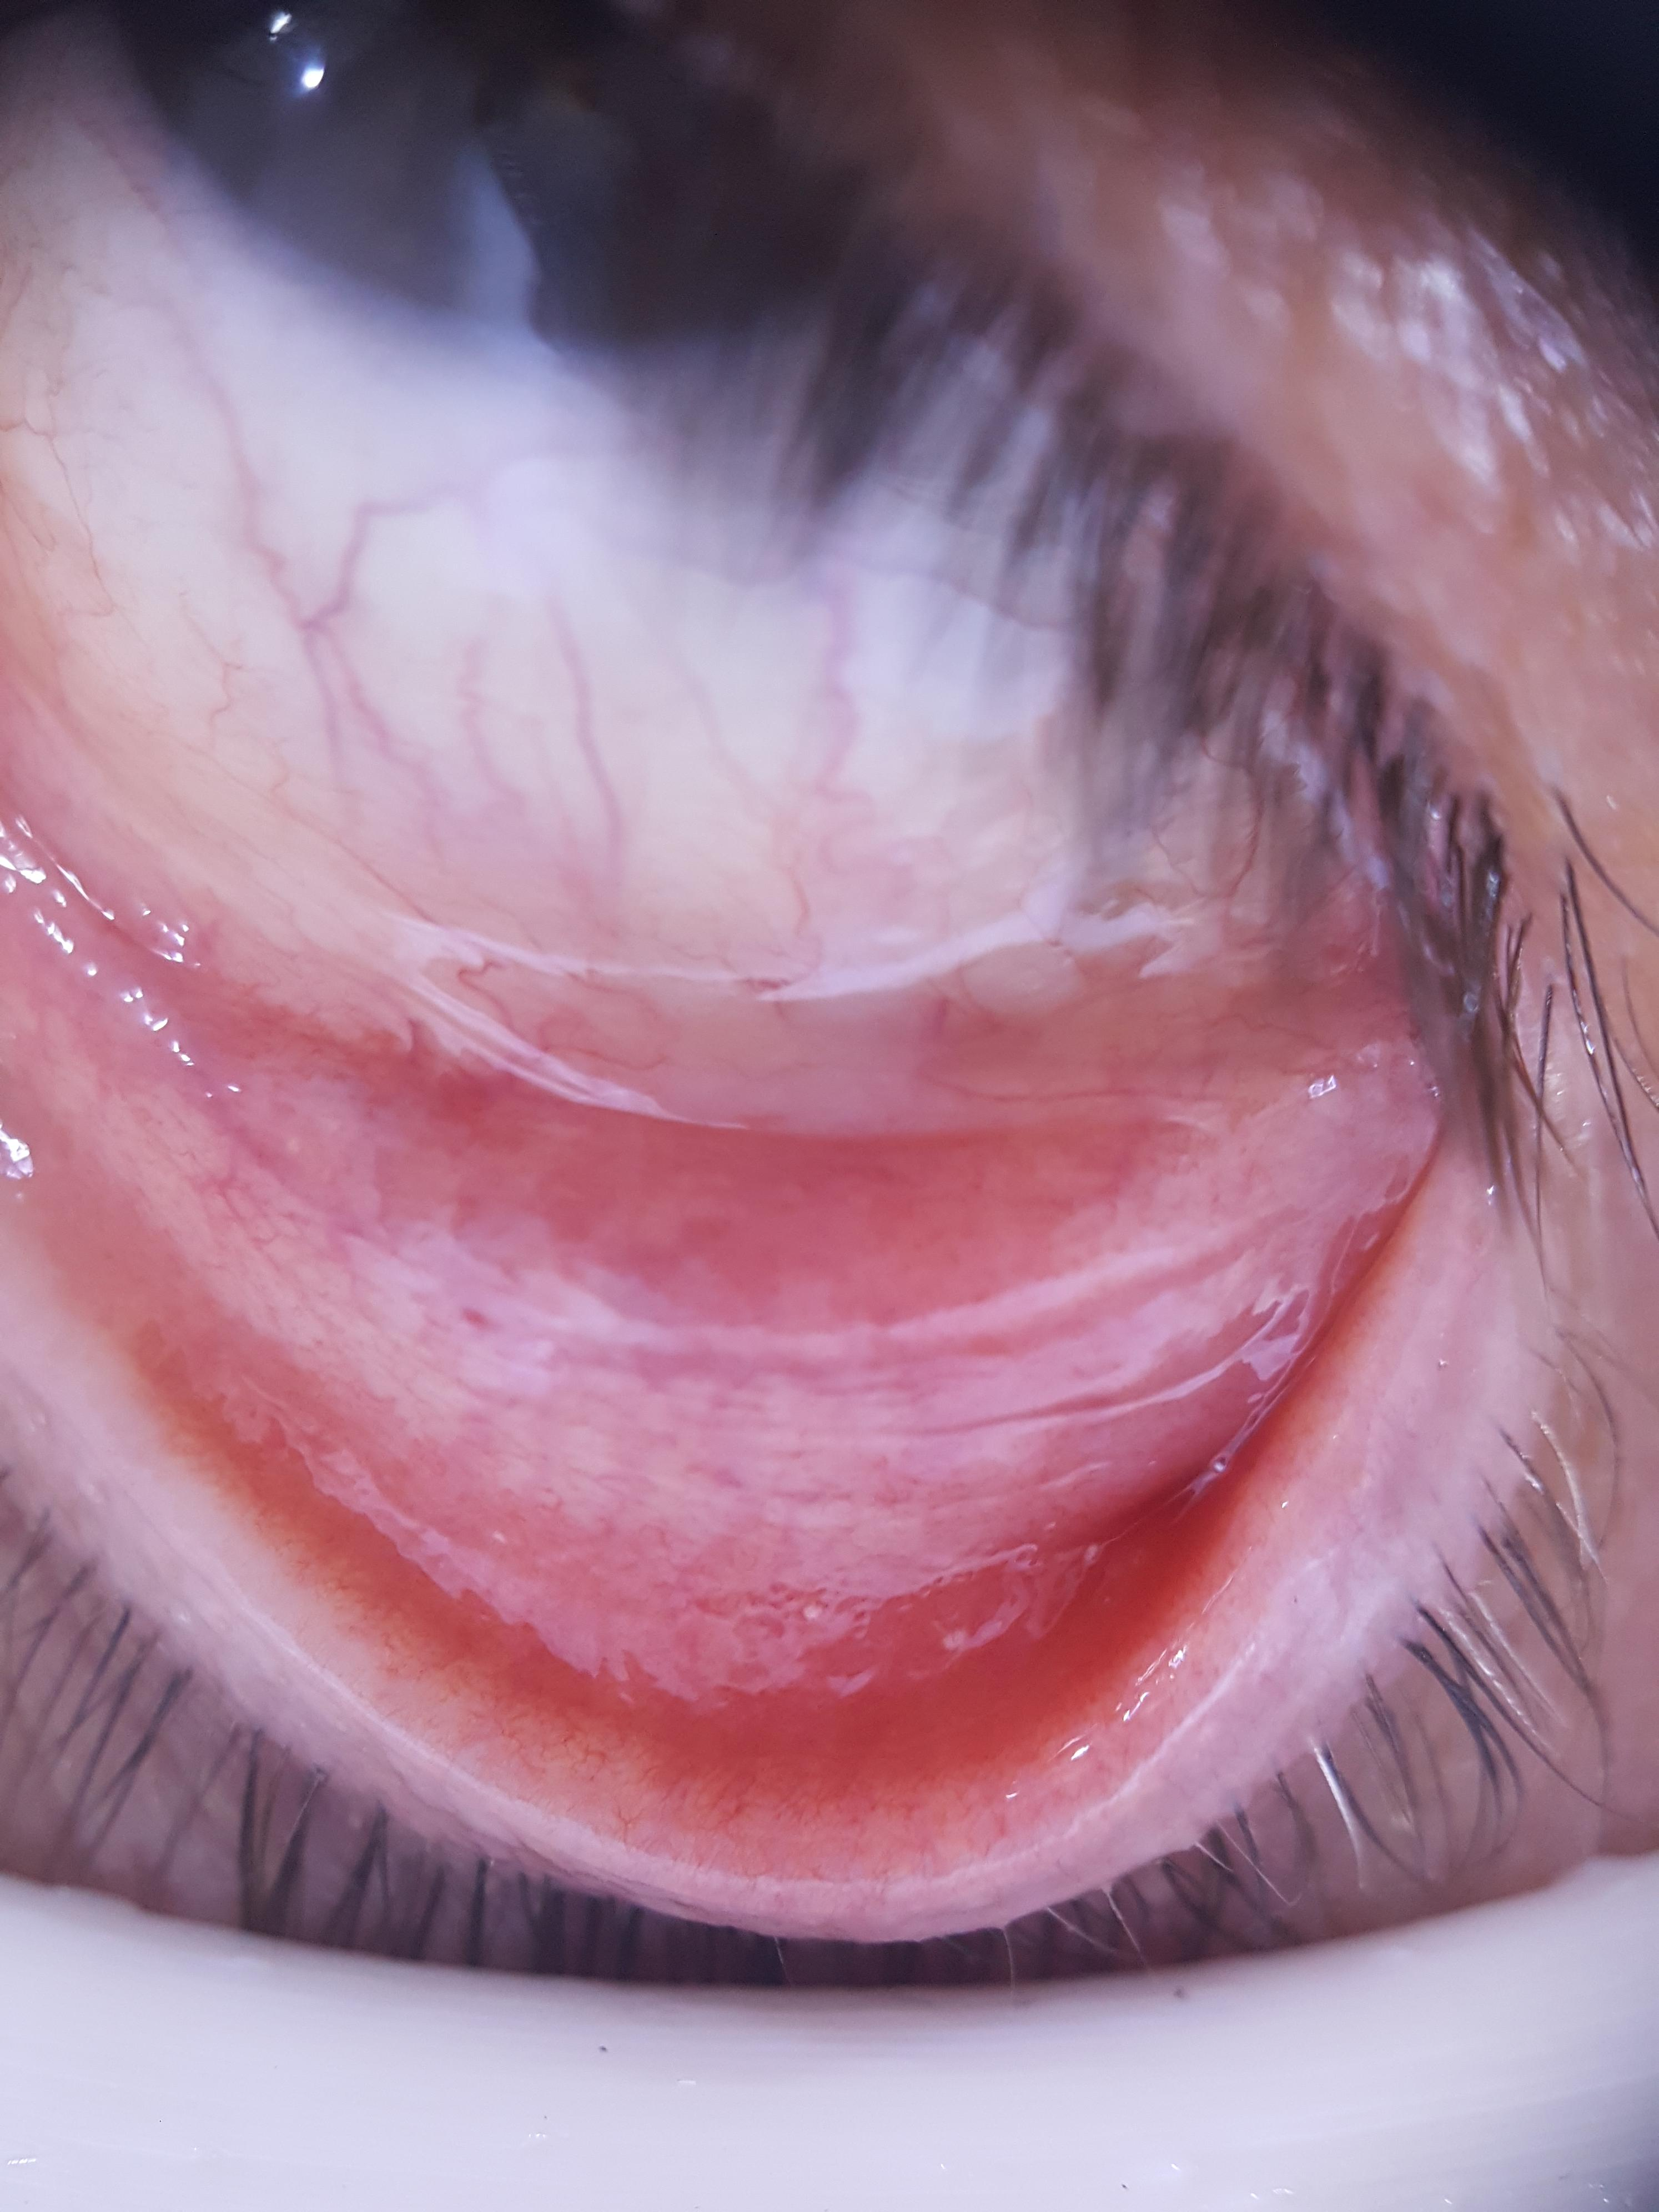forniceal: (0, 772, 1432, 1583)
palpebral: (0, 1083, 1403, 1827)
